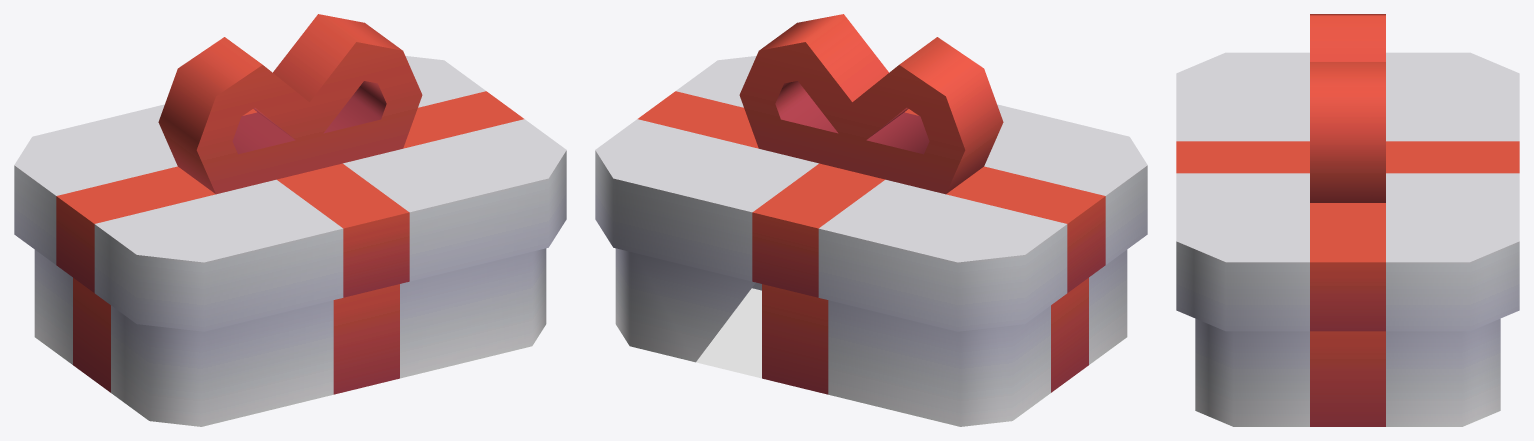
The model's file is k-holiday-present-a-rectangle.glb.
The picture shows the model from 3 angles, left to right: view 1: azimuth 30°, elevation 25°; view 2: azimuth 150°, elevation 25°; view 3: azimuth 270°, elevation 25°; orthographic projection.
Parts seen in each view (by area): view 1: lid, present-a-rectangle; view 2: lid, present-a-rectangle; view 3: lid, present-a-rectangle.
Boxes of the visible parts, x1,y1,x2,y2 form: lid: (14, 14, 566, 331); present-a-rectangle: (34, 248, 546, 426); lid: (595, 14, 1147, 331); present-a-rectangle: (615, 248, 1127, 426); lid: (1176, 14, 1519, 331); present-a-rectangle: (1195, 318, 1500, 426).
Size of the model in its own units: 0.65 by 0.4207 by 0.45.
1 material, 1 textured.
